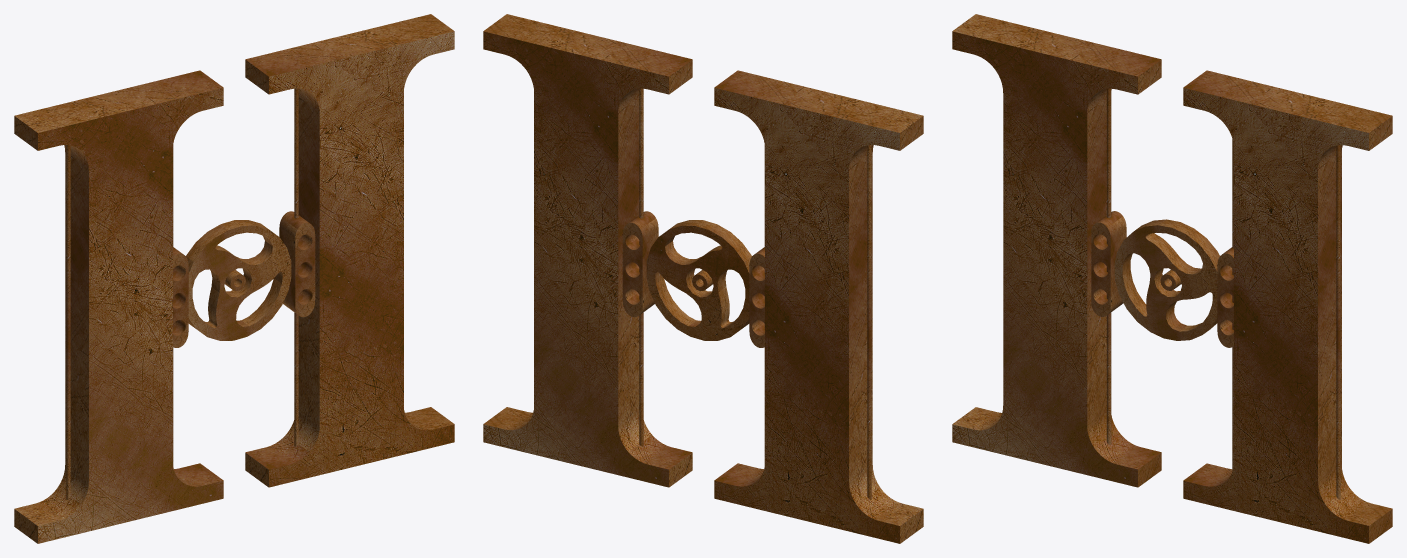
3 views of the same model, side by side, from view 1: azimuth 30°, elevation 25°; view 2: azimuth 150°, elevation 25°; view 3: azimuth 330°, elevation 25° (orthographic).
Parts seen in each view (by area): view 1: H, Cogwheel_407, Tube_423, Tube_433; view 2: H, Cogwheel_407, Tube_423, Tube_433; view 3: H, Cogwheel_407, Tube_441, Tube_440.
Part boxes in pixels (<box>): H: <box>14,14,454,543</box>; Cogwheel_407: <box>186,220,291,340</box>; Tube_423: <box>66,145,70,499</box>; Tube_433: <box>294,88,298,446</box>; H: <box>483,14,923,543</box>; Cogwheel_407: <box>646,220,751,340</box>; Tube_423: <box>867,145,871,499</box>; Tube_433: <box>639,88,643,446</box>; H: <box>952,14,1392,543</box>; Cogwheel_407: <box>1114,219,1219,340</box>; Tube_441: <box>1336,145,1340,499</box>; Tube_440: <box>1106,88,1111,444</box>.
Size of the model in its own units: 102 by 95.73 by 10.
1 material, 1 textured.
